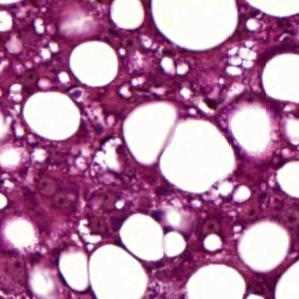steatosis: (117, 212, 187, 264), (20, 88, 83, 145), (238, 223, 292, 273), (70, 41, 122, 89)
